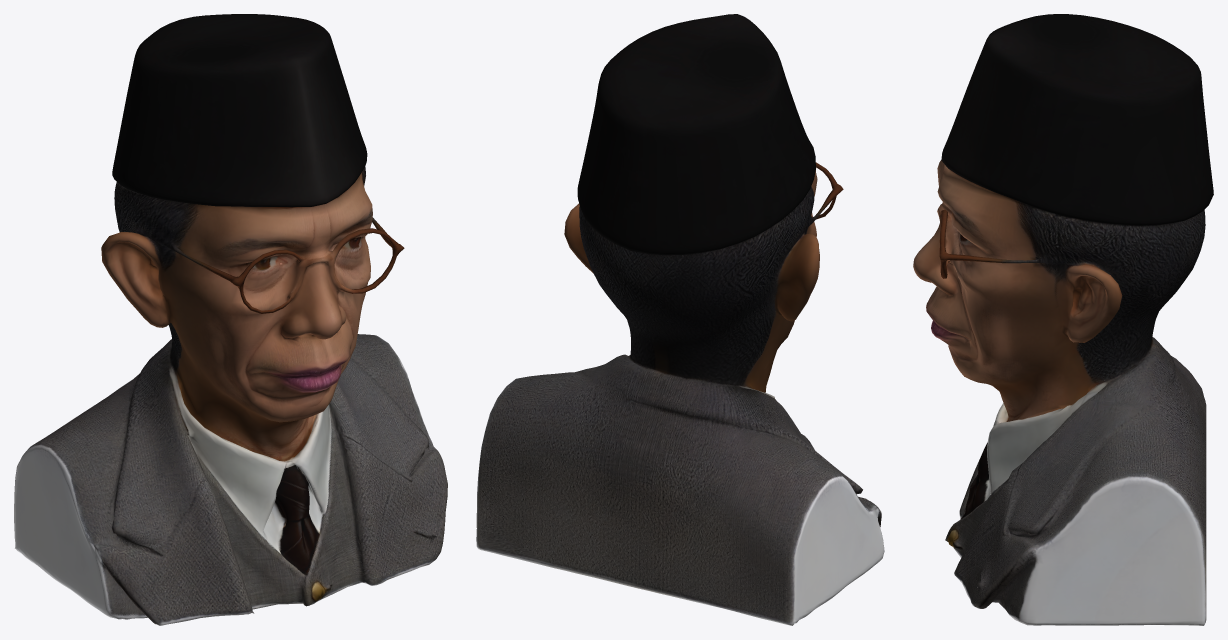
Rendered from kihajar.glb.
The picture shows the model from 3 angles, left to right: view 1: azimuth 30°, elevation 25°; view 2: azimuth 150°, elevation 25°; view 3: azimuth 270°, elevation 25°; orthographic projection. The views are drawn at different scales.
Parts seen in each view (by area): view 1: model; view 2: model; view 3: model.
Part boxes in pixels (x1,y1,x2,y2): model: [14, 14, 447, 625]; model: [476, 14, 884, 625]; model: [913, 14, 1213, 625].
Bounding box in the file's own units: 1.28 × 1.89 × 1.01.
1 material, 1 textured.
